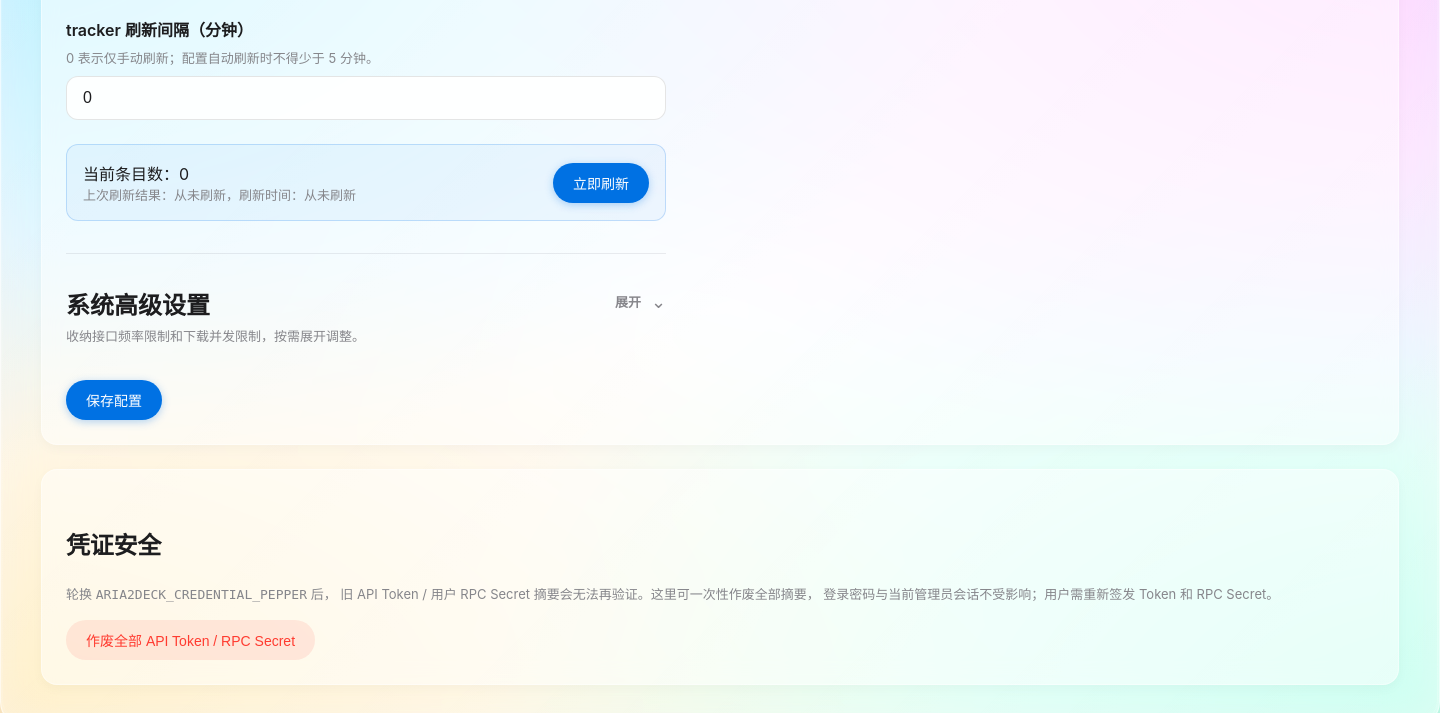
SettingsPage › clamps create share rate limit input to the allowed range
The image size is (1440, 713).
(page scrolled)
Click the button "系统高级设置 收纳接口频率限制和下载并发限制，按需展开调整。 展开 ⌄": {"x": 138, "y": 306} x1=66 y1=286 x2=666 y2=348
(page scrolled)
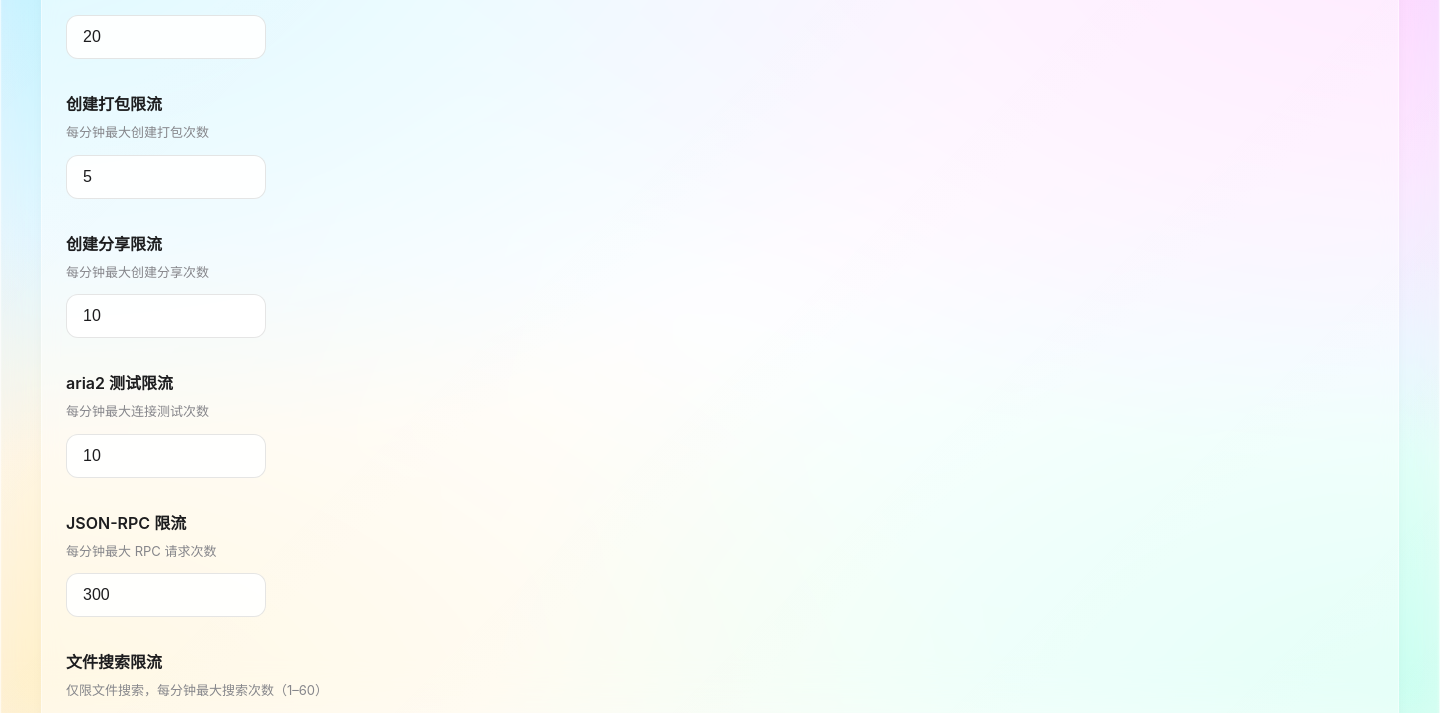
Replace the text in the number field labelled "创建分享限流" with "10001": {"x": 166, "y": 316} x1=66 y1=294 x2=266 y2=338
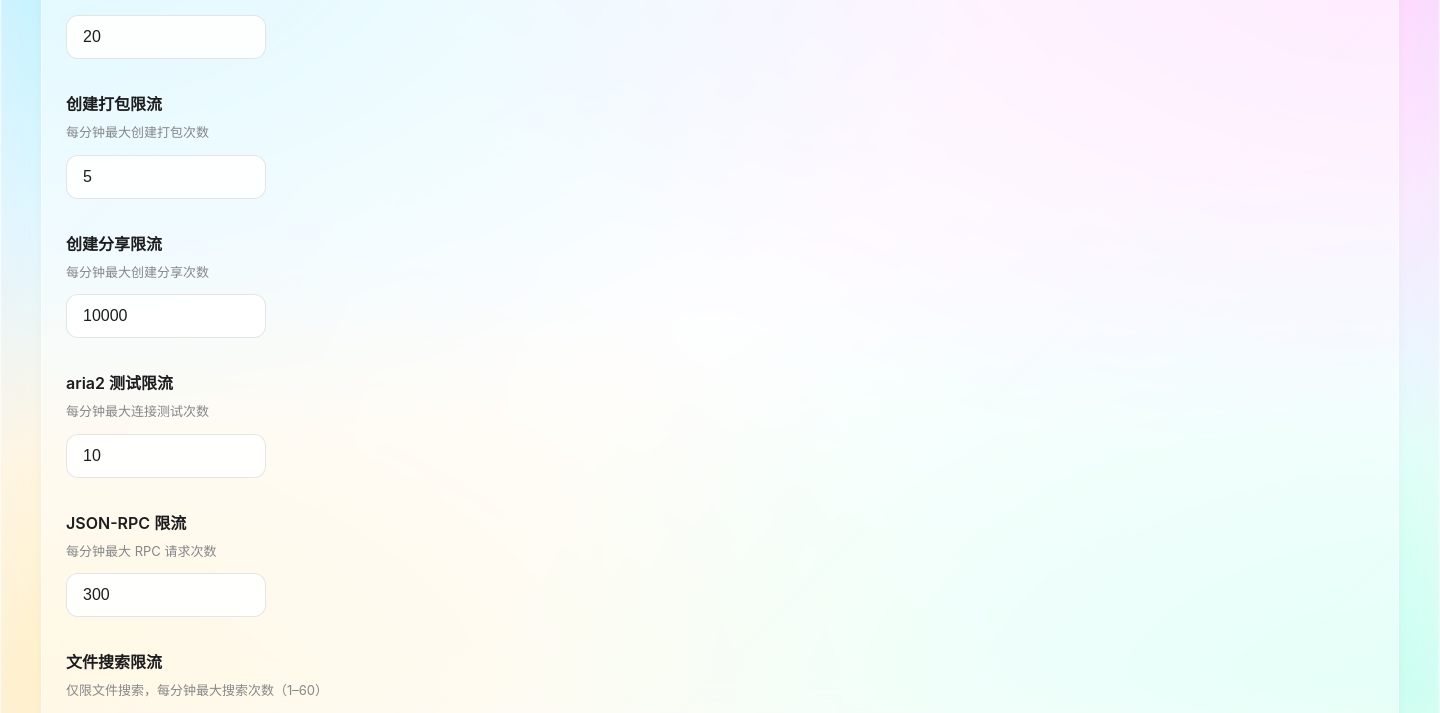
Result: the number field labelled "创建分享限流" holds "10000" at x1=66 y1=294 x2=266 y2=338
